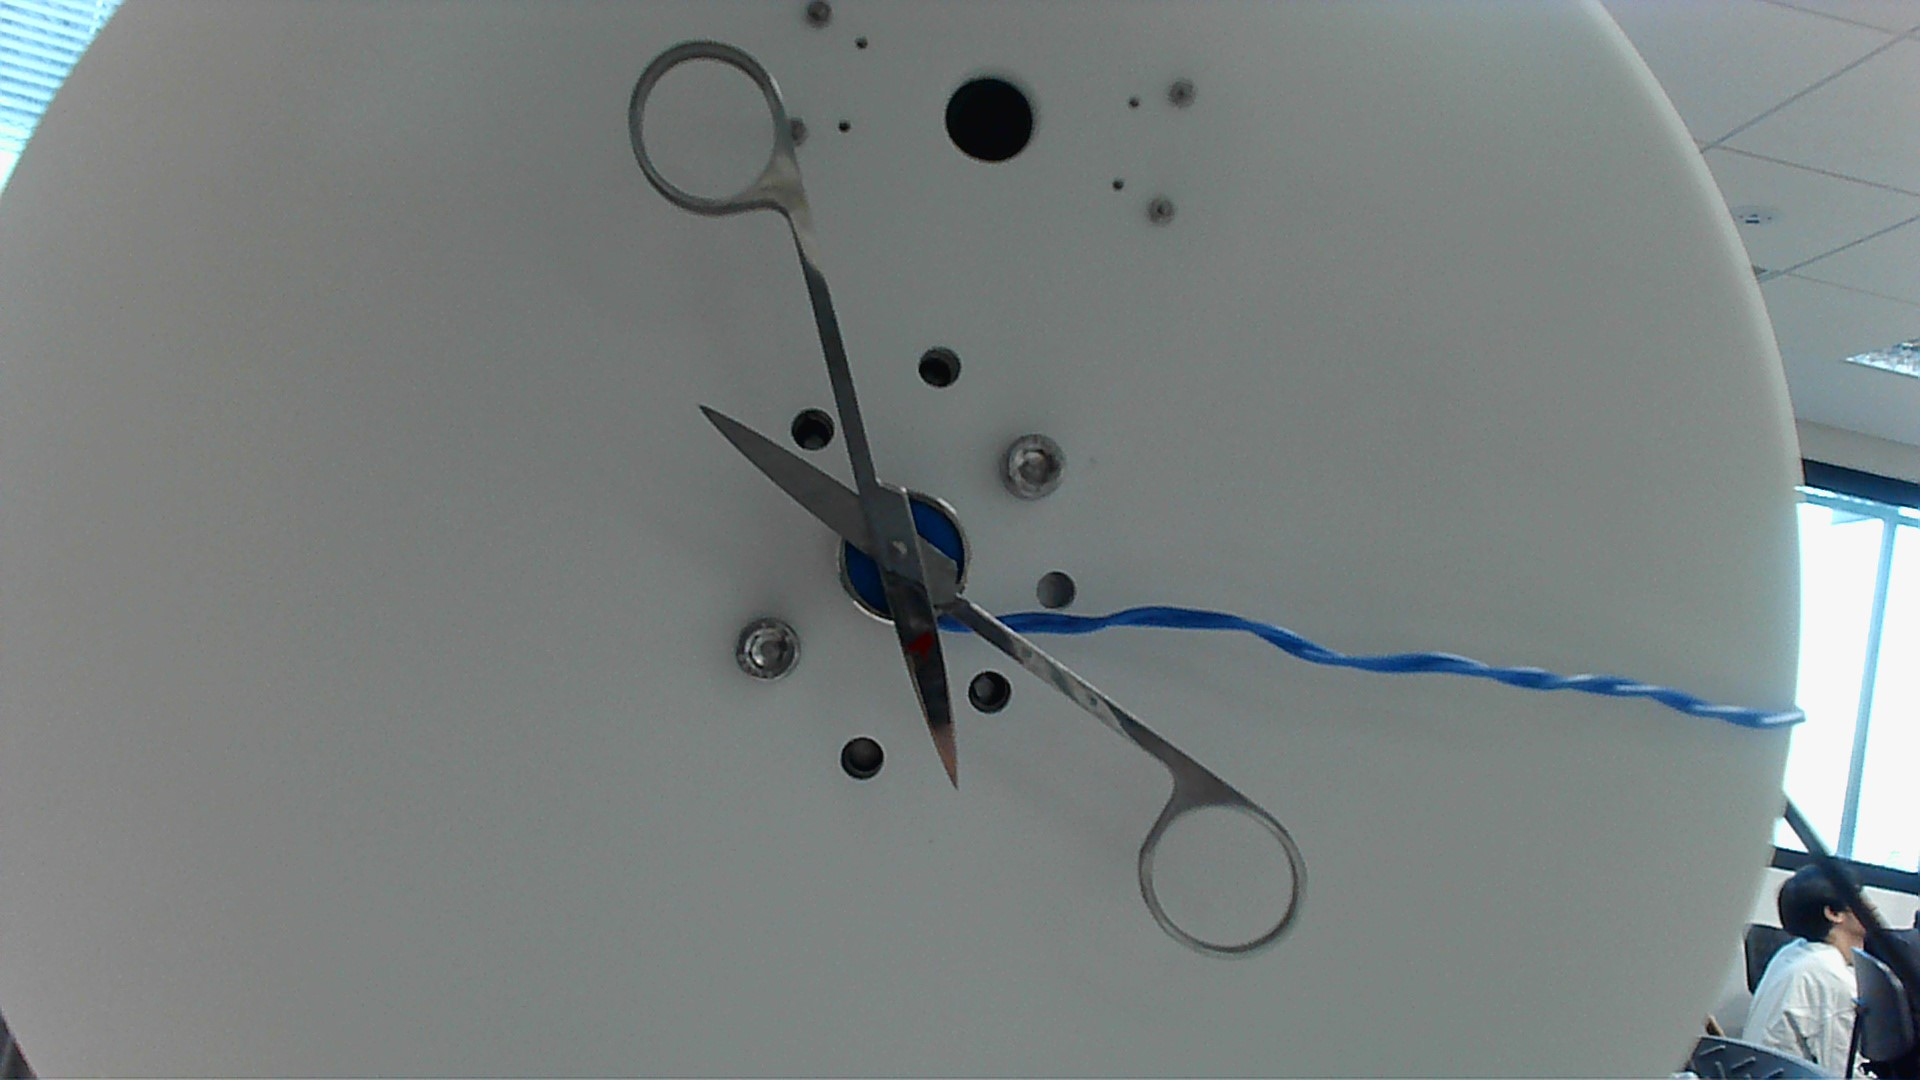Stain: (890, 624, 949, 663)
